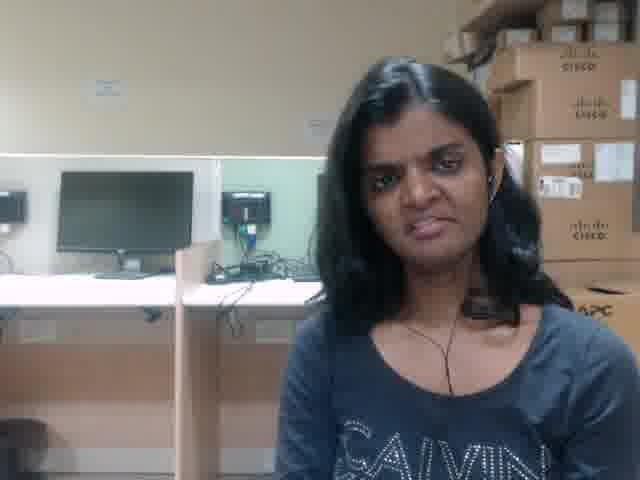bosan: (356, 109, 485, 258)
